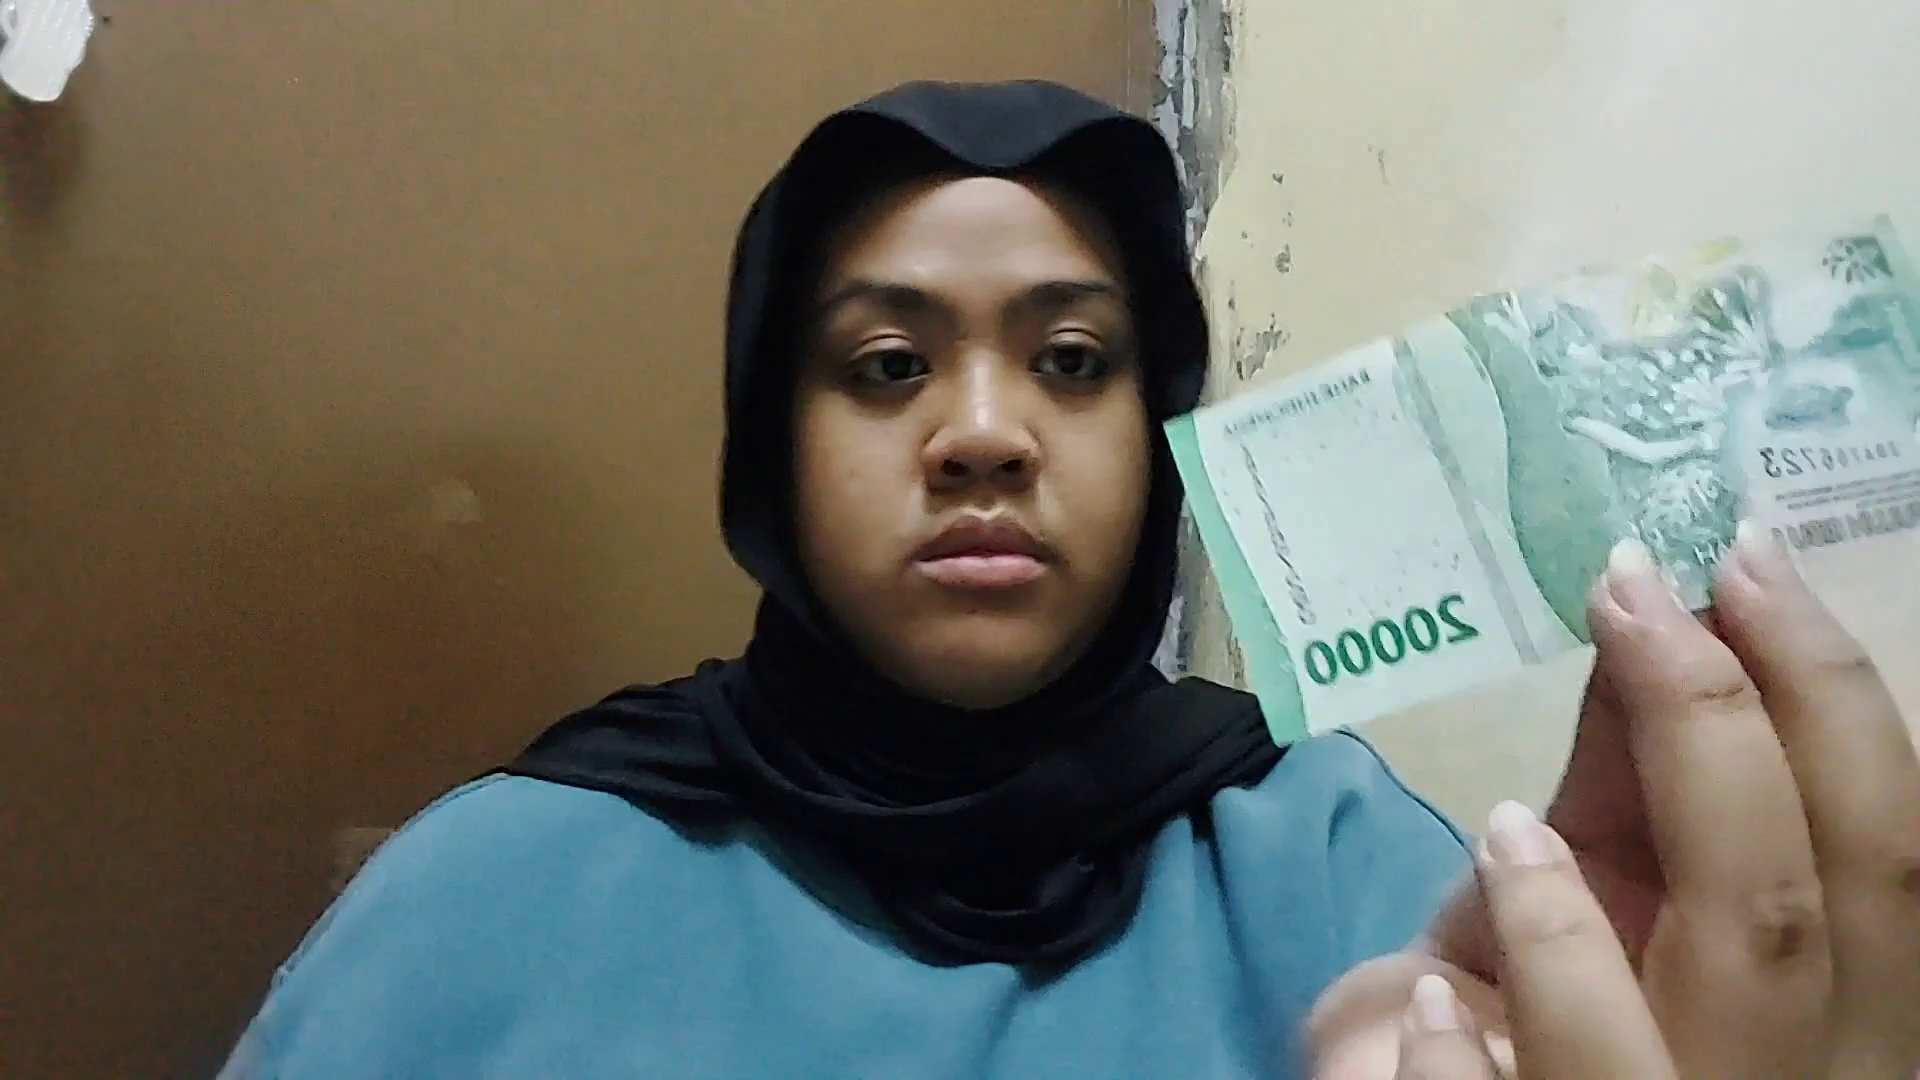20k: (1159, 411, 1821, 812)
